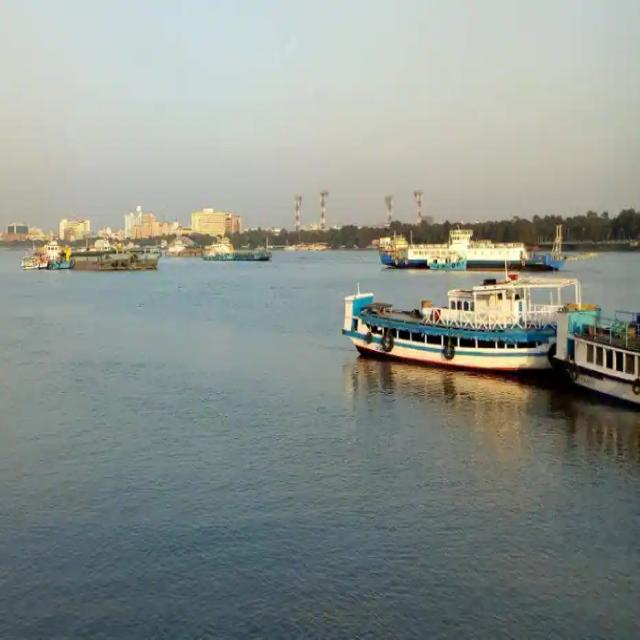cargoship: (370, 216, 560, 274)
fishing boat: (337, 243, 573, 410)
